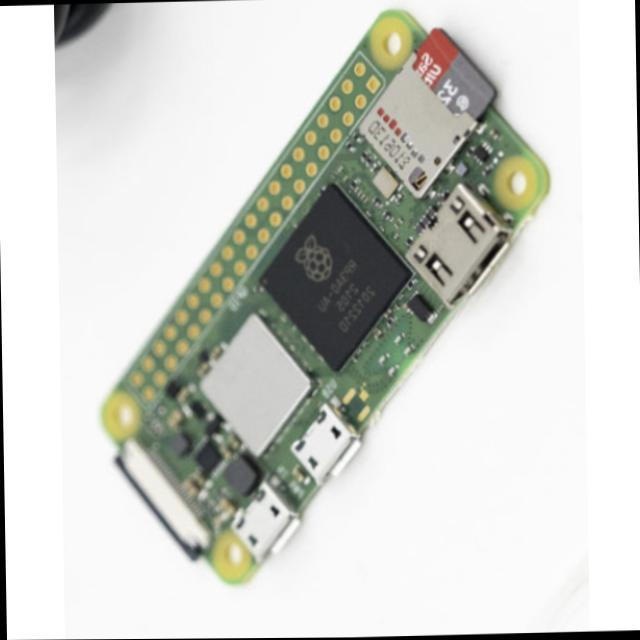Raspberry-Pi-Zero-2-W: (102, 11, 549, 584)
